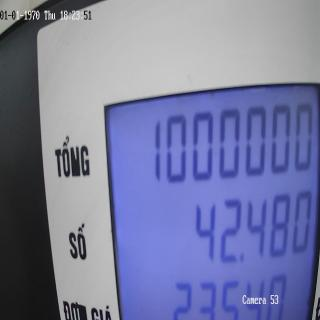screen: (98, 70, 319, 320)
